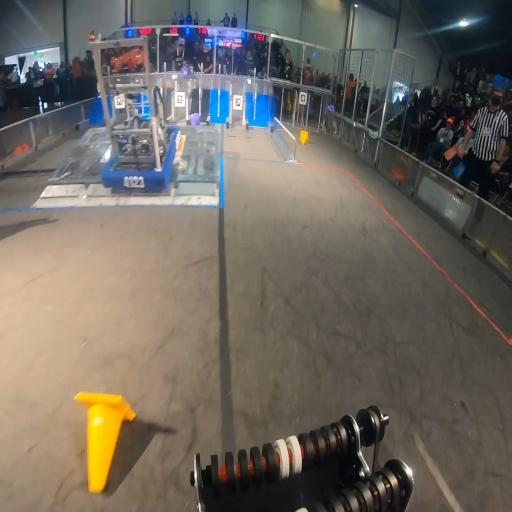robot: (87, 32, 182, 191)
